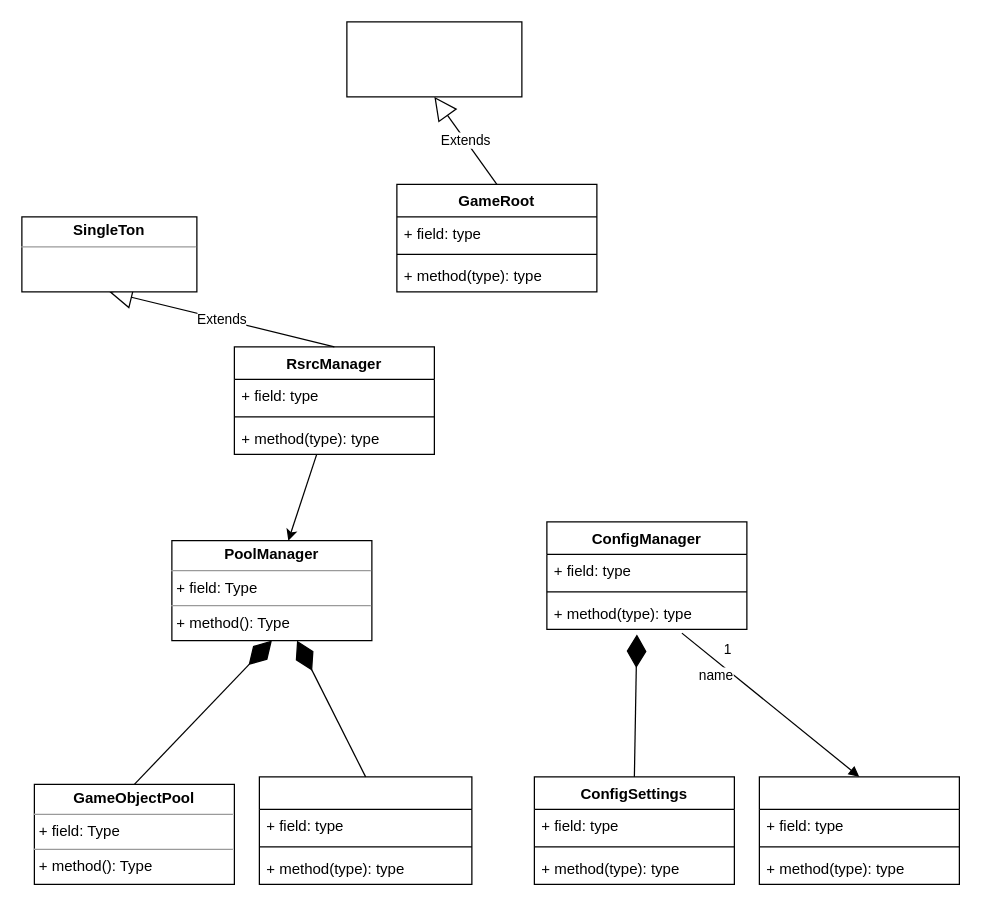
Image size: 981x910. Some labels were removed from this diagram. The box of each missing label's shape, as (x1, y1, x2, y2) in pixels:
GameSettings: (758, 776, 959, 884)
MonoBehaviour: (346, 21, 522, 97)
ObjectPool: (258, 776, 472, 884)
